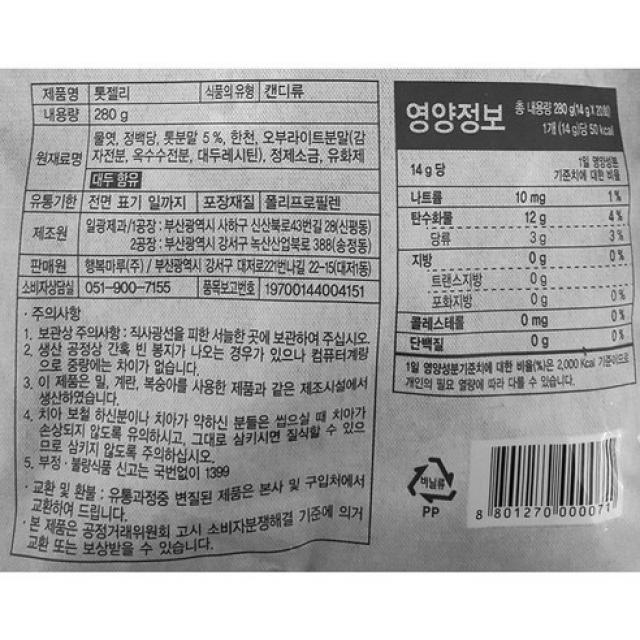Nutrition Label: (382, 78, 640, 402)
